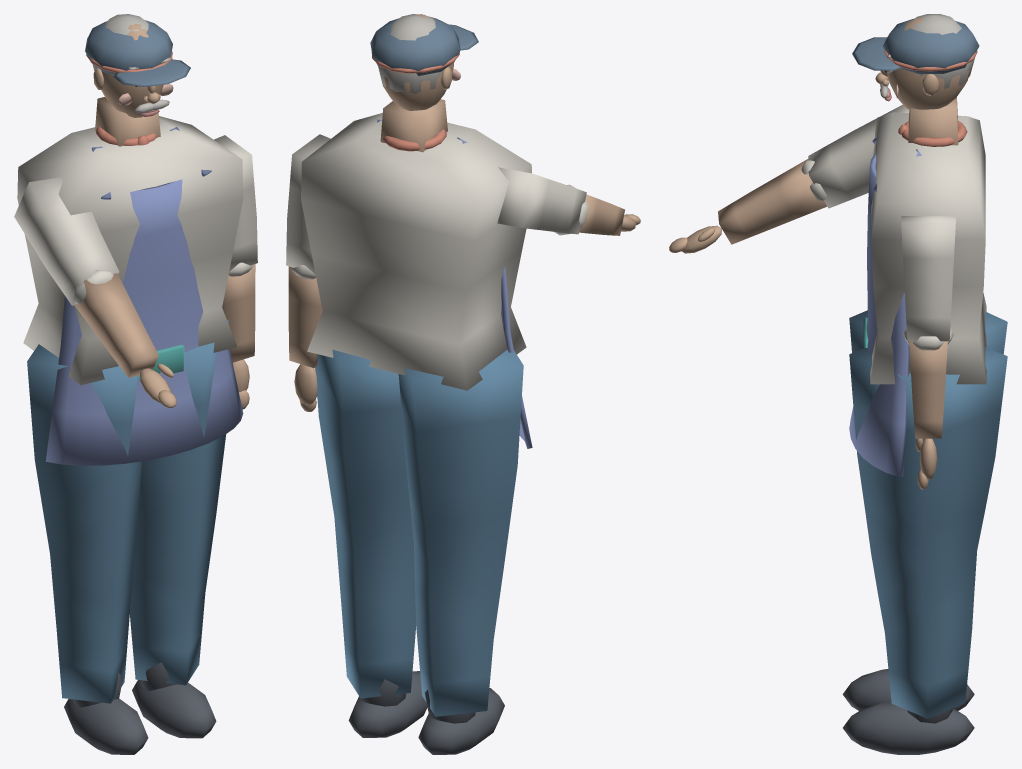
File: vendor-doi-xanh.glb
3 views of the same model, side by side, from view 1: azimuth 30°, elevation 25°; view 2: azimuth 150°, elevation 25°; view 3: azimuth 270°, elevation 25° (orthographic). The views are drawn at different scales.
Parts seen in each view (by area): view 1: vendor_body, arm_wave_mesh; view 2: vendor_body, arm_wave_mesh; view 3: vendor_body, arm_wave_mesh.
Boxes of the visible parts, x1,y1,x2,y2 form: vendor_body: (14, 14, 243, 754); arm_wave_mesh: (214, 135, 257, 409); vendor_body: (301, 14, 640, 754); arm_wave_mesh: (286, 134, 330, 411); vendor_body: (669, 14, 1007, 754); arm_wave_mesh: (901, 216, 955, 489).
Size of the model in its own units: 0.6374 by 1.87 by 0.7986.
